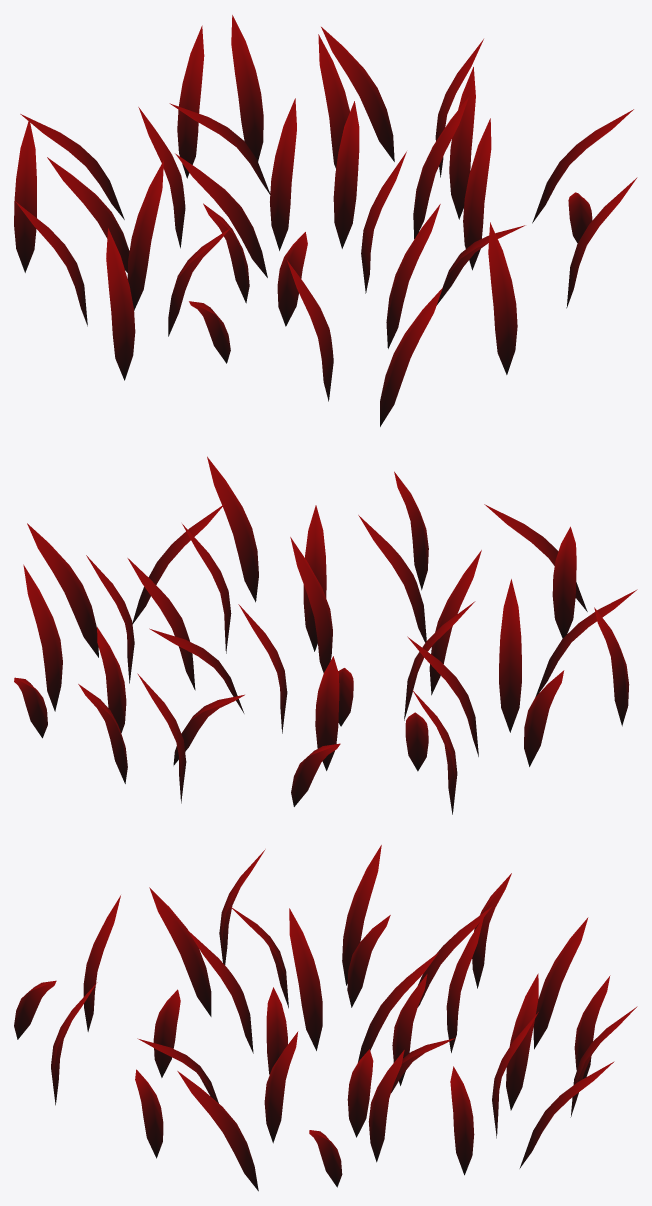
The model's file is Grass.fbx.
The picture shows the model from 3 angles, top to bottom: view 1: azimuth 30°, elevation 25°; view 2: azimuth 150°, elevation 25°; view 3: azimuth 270°, elevation 25°; orthographic projection. The views are drawn at different scales.
Parts seen in each view (by area): view 1: Grass; view 2: Grass; view 3: Grass.
Part boxes in pixels (x1,y1,x2,y2): Grass: [14, 15, 637, 426]; Grass: [14, 456, 637, 814]; Grass: [14, 845, 637, 1191].
Bounding box in the file's own units: 2.43 × 0.5482 × 2.42.
